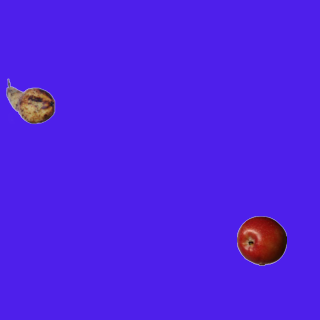Apple Braeburn: (236, 215, 286, 265)
Pear Abate: (5, 76, 55, 126)
